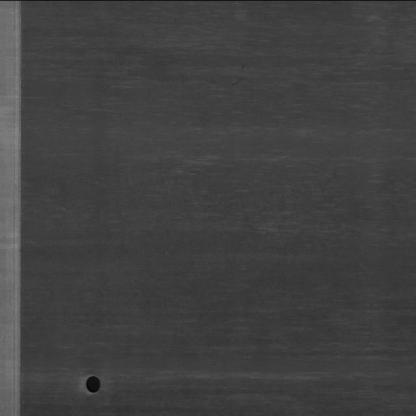punching_hole: (76, 367, 107, 398)
welding_line: (7, 0, 39, 415)
